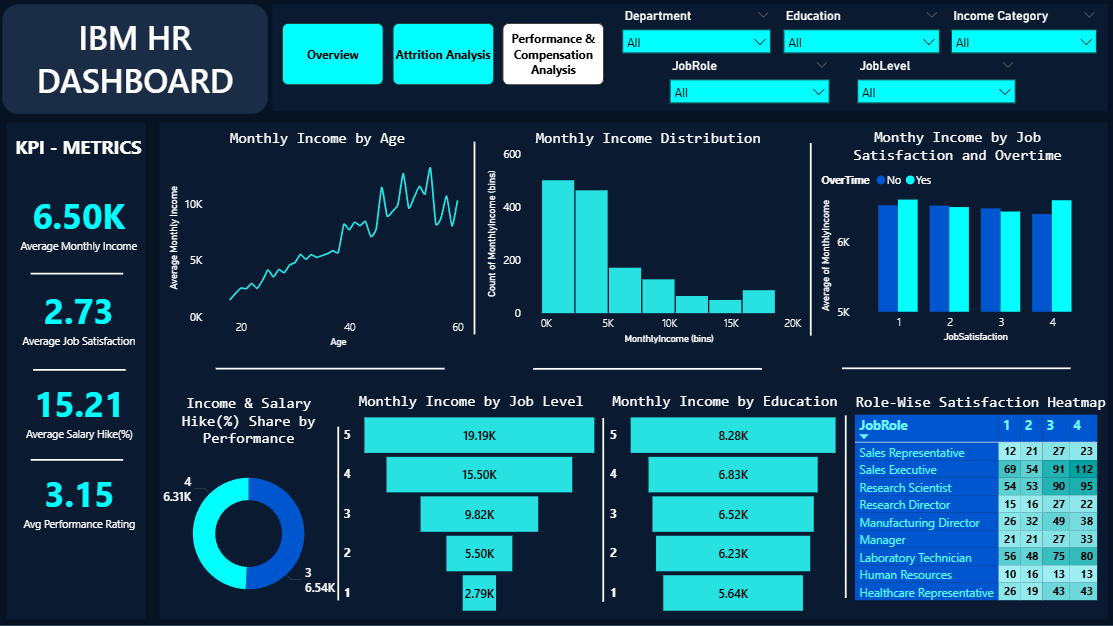

Layout of this report page (visuals, bound fields, positions):
{"tool":"powerbi","page":{"name":"Performance & Compensation Analysis","canvas":[1280,720],"ordinal":2},"visuals":[{"type":"card","title":"Average Monthly Income","fields":{"Values":["All.AvgMonthlyIncome"]},"box":[11.4,203.5,164.3,105.7],"z":0},{"type":"card","fields":{"Values":["All.AvgSalaryHike"]},"box":[18.6,421.7,151.4,98.6],"z":1000},{"type":"card","fields":{"Values":["All.AvgJobSatisfaction"]},"box":[11.4,308.7,164.3,111.4],"z":2000},{"type":"card","fields":{"Values":["All.AvgPerformanceRating"]},"box":[18.6,521.7,151.4,104.3],"z":3000},{"type":"areaChart","title":"Monthly Income by Age","fields":{"Y":["All.AvgMonthlyIncome"],"Category":["HR_Data.Age"]},"box":[191.4,150,350,254.3],"z":4000},{"type":"clusteredColumnChart","title":"Monthy Income by Job Satisfaction and Overtime","fields":{"Category":["HR_Data.JobSatisfaction"],"Y":["Avg(HR_Data.MonthlyIncome)"],"Series":["HR_Data.OverTime"]},"box":[937.1,148.6,321.4,250],"z":5000},{"type":"donutChart","title":"Income & Salary Hike(%) Share by Performance","fields":{"Y":["Avg(HR_Data.MonthlyIncome)"],"Category":["HR_Data.PerformanceRating"]},"box":[177.5,452.5,221.2,258.8],"z":6000},{"type":"funnel","title":"Monthly Income by Job Level","fields":{"Category":["HR_Data.JobLevel"],"Y":["Avg(HR_Data.MonthlyIncome)"]},"box":[391.4,450,301.4,260],"z":7000},{"type":"funnel","title":"Monthly Income by Education","fields":{"Category":["HR_Data.Education"],"Y":["Avg(HR_Data.MonthlyIncome)"]},"box":[695.7,450,272.9,260],"z":8000},{"type":"clusteredColumnChart","title":"Monthly Income Distribution","fields":{"Y":["CountNonNull(HR_Data.MonthlyIncome (bins))"],"Category":["HR_Data.MonthlyIncome (bins)"]},"box":[555.7,150,377.1,250],"z":9000},{"type":"pivotTable","title":"Role-Wise Satisfaction Heatmap","fields":{"Rows":["HR_Data.JobRole"],"Columns":["HR_Data.JobSatisfaction"],"Values":["CountNonNull(HR_Data.Age)"]},"box":[975.7,451.4,297.1,260],"z":10000},{"type":"textbox","box":[15.7,150,175.7,47.1],"z":11000},{"type":"shape","box":[518.6,164.3,54.3,220],"z":12000},{"type":"shape","box":[250,405.7,261.4,35.7],"z":13000},{"type":"shape","box":[612.5,405,261.2,36.2],"z":14000},{"type":"shape","box":[902.9,165.7,54.3,220],"z":15000},{"type":"shape","box":[965,405,261.2,35],"z":16000},{"type":"shape","box":[362.9,490,54.3,198.6],"z":17000},{"type":"shape","box":[665.7,480,54.3,210],"z":18000},{"type":"shape","box":[942.9,477.1,54.3,208.6],"z":19000},{"type":"shape","box":[38.6,297.1,105.7,35.7],"z":20000},{"type":"shape","box":[41.4,407.1,105.7,35.7],"z":21000},{"type":"shape","box":[38.6,510,105.7,35.7],"z":22000},{"type":"slicer","fields":{"Values":["WA_Fn-UseC_-HR-Employee-Attrition.Department"]},"box":[704.3,7.1,190,88.6],"z":23000},{"type":"slicer","fields":{"Values":["WA_Fn-UseC_-HR-Employee-Attrition.JobRole"]},"box":[758.6,64.3,202.9,71.4],"z":24000},{"type":"slicer","fields":{"Values":["WA_Fn-UseC_-HR-Employee-Attrition.JobLevel"]},"box":[972.9,64.3,201.4,68.6],"z":25000},{"type":"slicer","fields":{"Values":["WA_Fn-UseC_-HR-Employee-Attrition.Education"]},"box":[888.6,7.1,198.6,64.3],"z":26000},{"type":"slicer","fields":{"Values":["HR_Data.Monthly_Slicer"]},"box":[1080,7.1,187.1,88.6],"z":27000},{"type":"pageNavigator","box":[325.7,28.6,370,71.4],"z":28000},{"type":"textbox","box":[5.7,7.1,304.3,125.7],"z":29000}]}

Visuals, with their boxes in screenshot pixels (x1, y1, x2, y2), scaled from the page's 1280x720 canvas onto the 1113x626 screenshot:
"Average Monthly Income" card: bbox=(10, 177, 153, 269)
card - All.AvgSalaryHike: bbox=(16, 367, 148, 452)
card - All.AvgJobSatisfaction: bbox=(10, 268, 153, 365)
card - All.AvgPerformanceRating: bbox=(16, 454, 148, 544)
"Monthly Income by Age" areaChart: bbox=(166, 130, 471, 352)
"Monthy Income by Job Satisfaction and Overtime" clusteredColumnChart: bbox=(815, 129, 1094, 347)
"Income & Salary Hike(%) Share by Performance" donutChart: bbox=(154, 393, 347, 618)
"Monthly Income by Job Level" funnel: bbox=(340, 391, 602, 617)
"Monthly Income by Education" funnel: bbox=(605, 391, 842, 617)
"Monthly Income Distribution" clusteredColumnChart: bbox=(483, 130, 811, 348)
"Role-Wise Satisfaction Heatmap" pivotTable: bbox=(848, 392, 1107, 619)
textbox: bbox=(14, 130, 166, 171)
shape: bbox=(451, 143, 498, 334)
shape: bbox=(217, 353, 445, 384)
shape: bbox=(533, 352, 760, 384)
shape: bbox=(785, 144, 832, 335)
shape: bbox=(839, 352, 1066, 383)
shape: bbox=(316, 426, 363, 599)
shape: bbox=(579, 417, 626, 600)
shape: bbox=(820, 415, 867, 596)
shape: bbox=(34, 258, 125, 289)
shape: bbox=(36, 354, 128, 385)
shape: bbox=(34, 443, 125, 474)
slicer - WA_Fn-UseC_-HR-Employee-Attrition.Department: bbox=(612, 6, 778, 83)
slicer - WA_Fn-UseC_-HR-Employee-Attrition.JobRole: bbox=(660, 56, 836, 118)
slicer - WA_Fn-UseC_-HR-Employee-Attrition.JobLevel: bbox=(846, 56, 1021, 116)
slicer - WA_Fn-UseC_-HR-Employee-Attrition.Education: bbox=(773, 6, 945, 62)
slicer - HR_Data.Monthly_Slicer: bbox=(939, 6, 1102, 83)
pageNavigator: bbox=(283, 25, 605, 87)
textbox: bbox=(5, 6, 270, 115)
